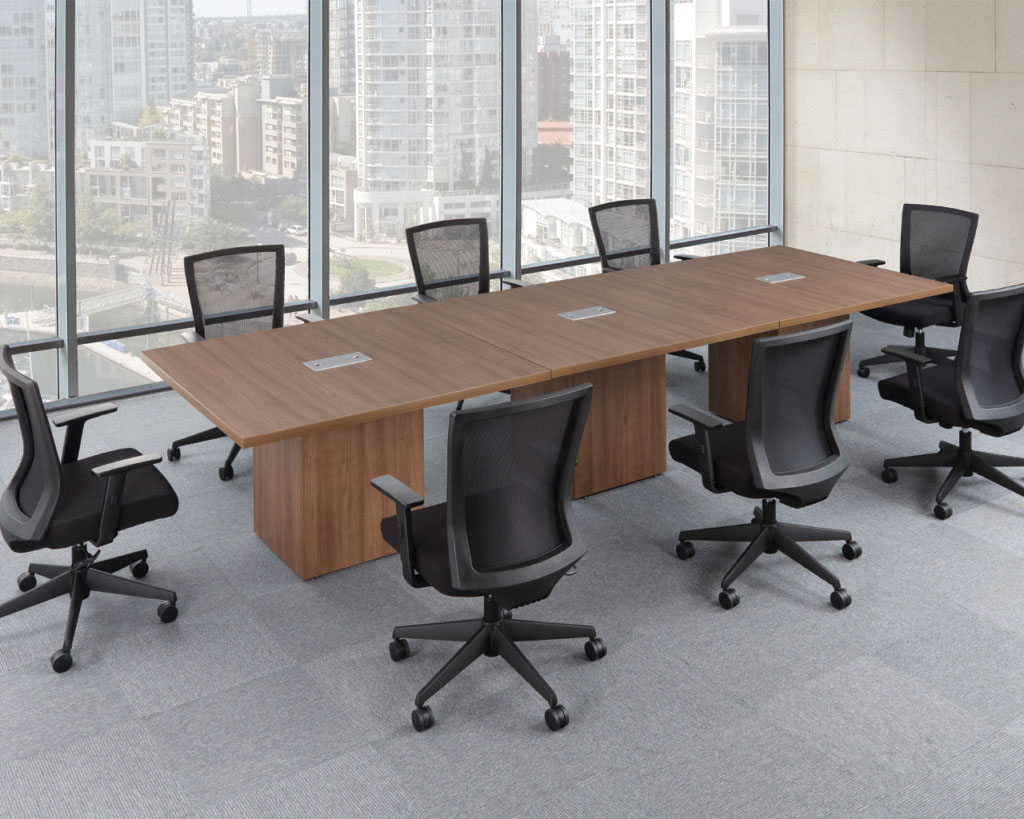conference_table: (140, 246, 954, 581)
